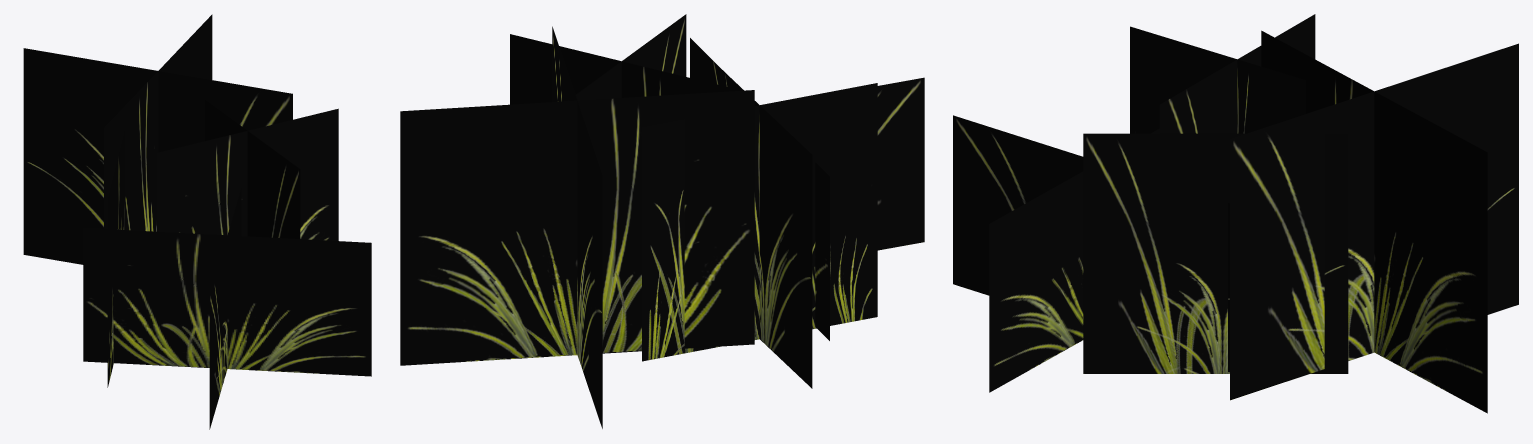
File: grass_patch5.fbx
The picture shows the model from 3 angles, left to right: view 1: azimuth 30°, elevation 25°; view 2: azimuth 150°, elevation 25°; view 3: azimuth 270°, elevation 25°; orthographic projection. The views are drawn at different scales.
Visible parts, largest first — view 1: Plane.001; view 2: Plane.001; view 3: Plane.001.
Boxes of the visible parts, <box> form: Plane.001: <box>23,14,371,429</box>; Plane.001: <box>400,14,924,428</box>; Plane.001: <box>953,14,1518,413</box>.
Bounding box in the file's own units: 42.36 × 29.91 × 57.63.
